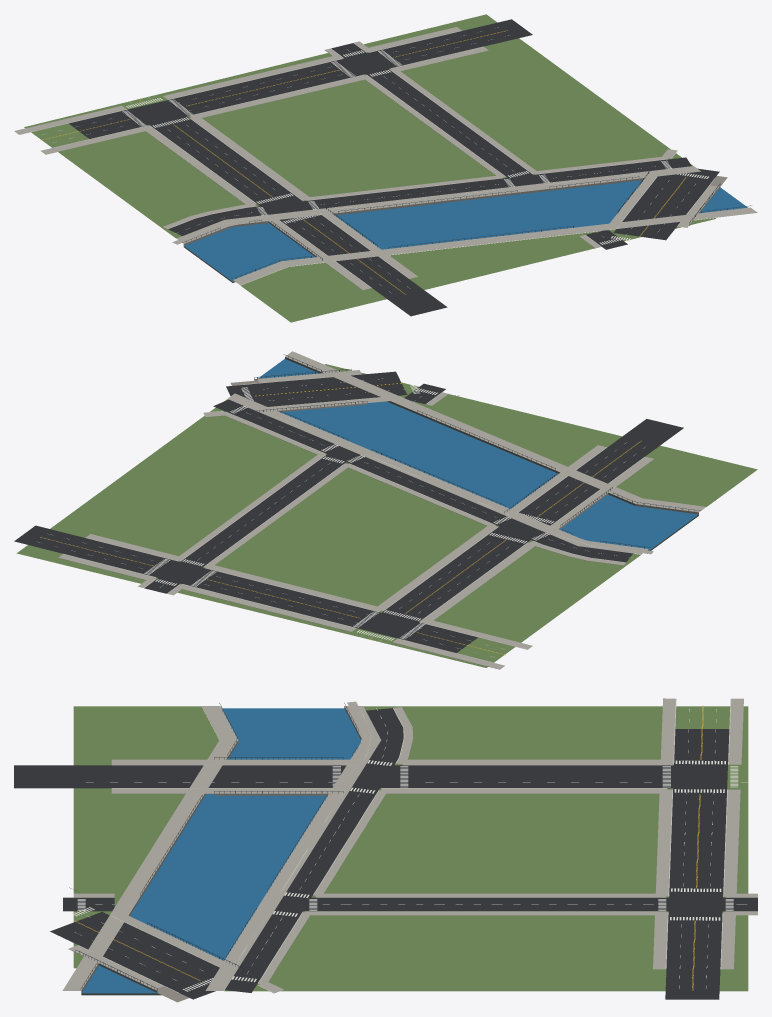
The model's file is Ground_1_2.fbx.
3 renders of one model, top to bottom at view 1: azimuth 30°, elevation 25°; view 2: azimuth 150°, elevation 25°; view 3: azimuth 270°, elevation 25°, orthographic. The views are drawn at different scales.
Visible parts, largest first — view 1: Ground_1_2; view 2: Ground_1_2; view 3: Ground_1_2.
Part boxes in pixels (<box>): Ground_1_2: <box>14,14,757,322</box>; Ground_1_2: <box>14,351,757,669</box>; Ground_1_2: <box>14,698,757,1002</box>.
Bounding box in the file's own units: 265 × 2.7 × 276.
